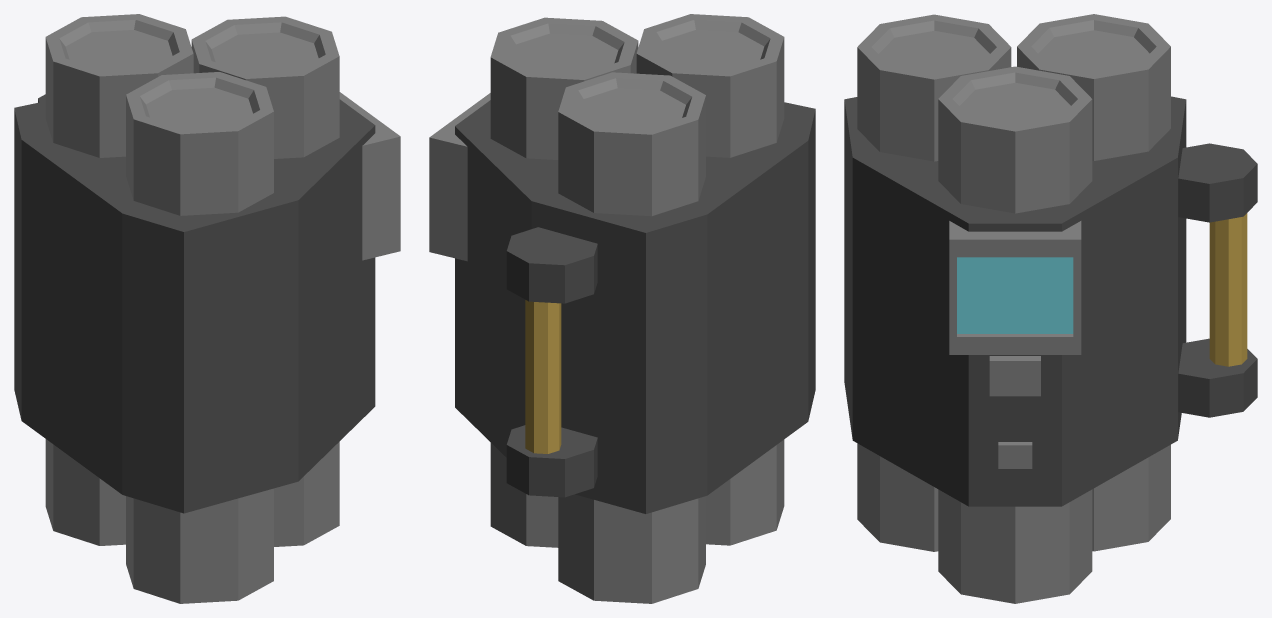
Rendered from Explosif.fbx.
3 views of the same model, side by side, from view 1: azimuth 30°, elevation 25°; view 2: azimuth 150°, elevation 25°; view 3: azimuth 270°, elevation 25° (orthographic).
Parts seen in each view (by area): view 1: Explosif; view 2: Explosif; view 3: Explosif.
Part boxes in pixels (x1,y1,x2,y2): Explosif: (14, 14, 400, 603); Explosif: (429, 14, 815, 603); Explosif: (844, 14, 1257, 603).
Bounding box in the file's own units: 11.71 × 17.76 × 14.07.
